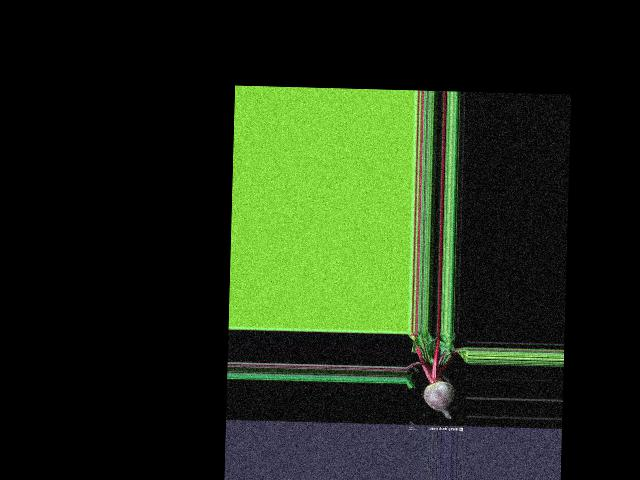beet: (404, 331, 468, 419)
